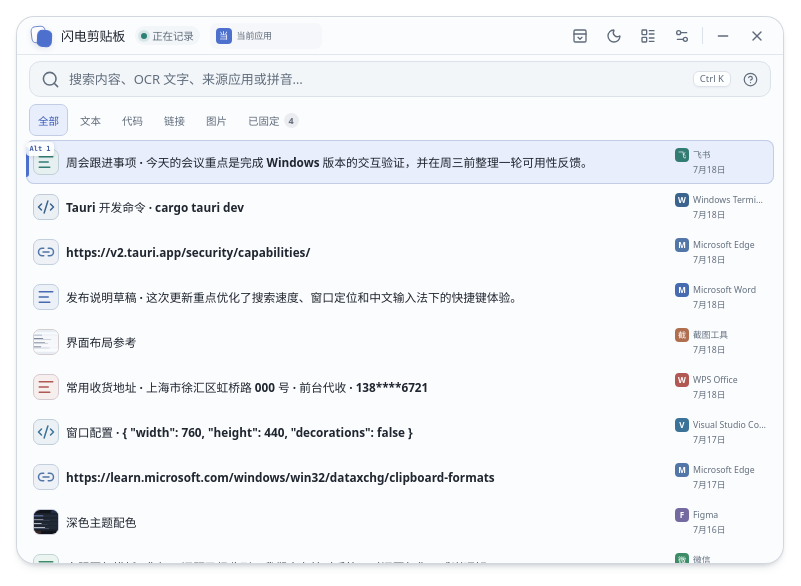
Test: QuickPaste quick panel › filters clipboard rows with Chinese pinyin search terms
This screenshot has width=801, height=586.
Type "huiyi" into the dropdown with test id "search-input". click: coordinates (400, 79)
box: x1=29 y1=61 x2=771 y2=97
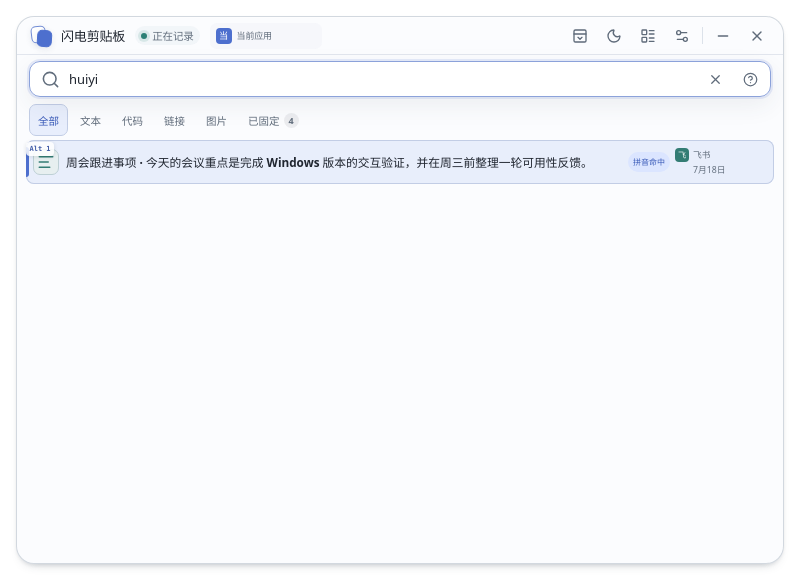
Expected: the text "周会跟进事项" is shown, x1=66 y1=154 x2=593 y2=170
Expected: the text "cargo tauri dev" is gone
